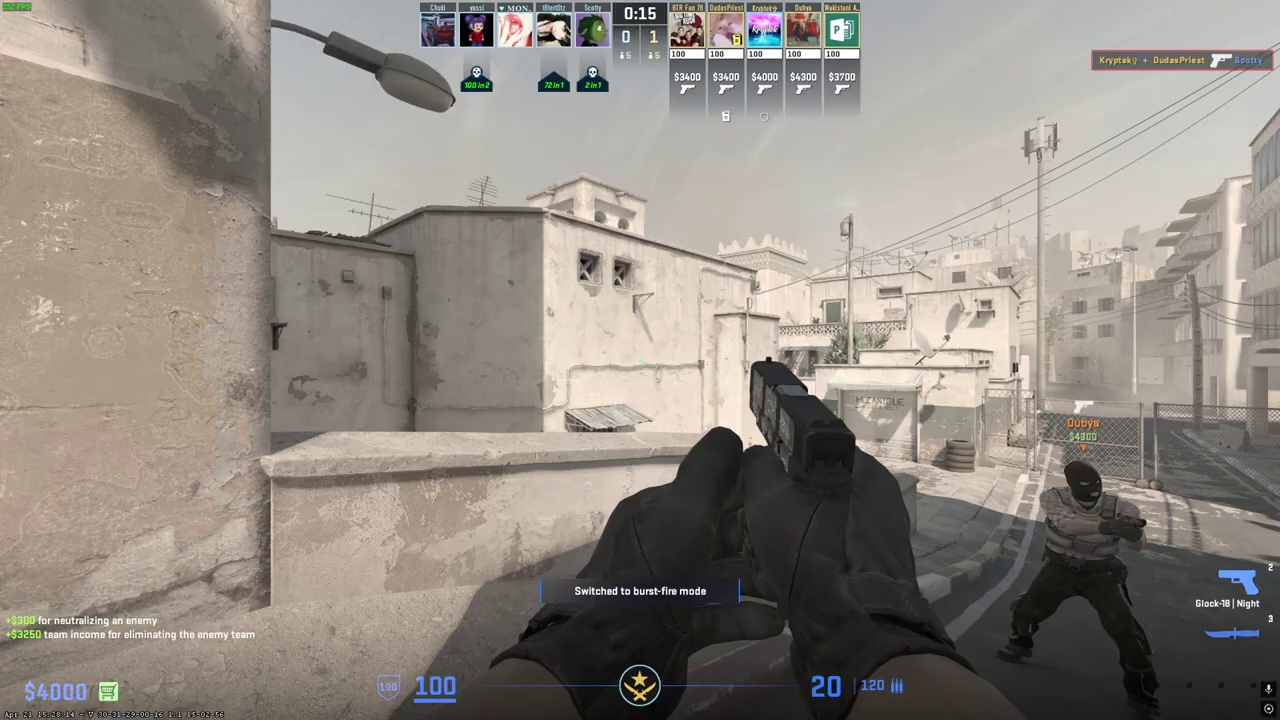Terrorist: (1006, 460, 1156, 719)
